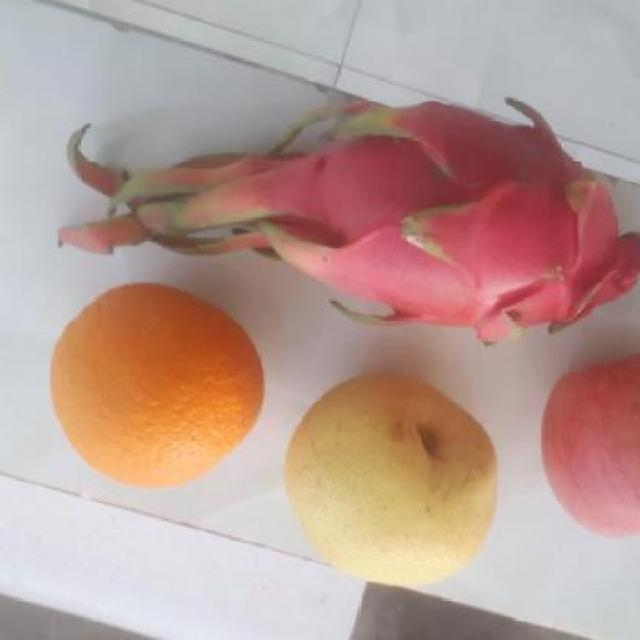apple: (535, 354, 640, 544)
oren: (37, 285, 272, 490)
pear: (278, 375, 510, 583)
